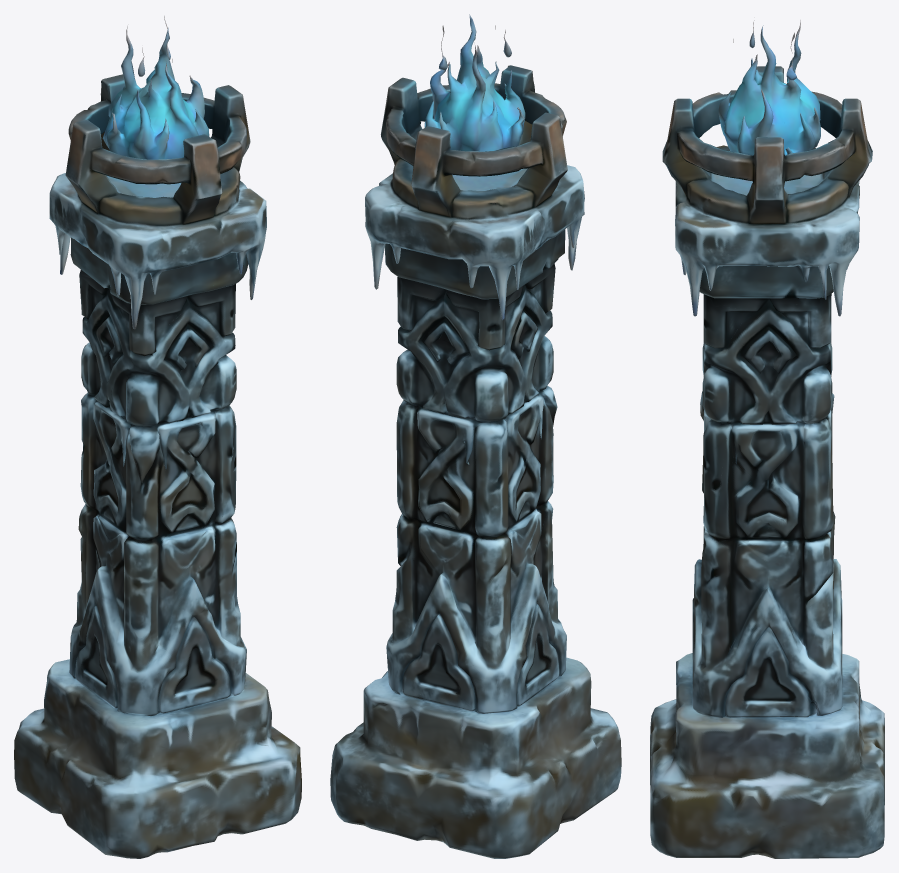
Rendered from brazier_pillar.glb.
3 renders of one model, left to right at view 1: azimuth 30°, elevation 25°; view 2: azimuth 150°, elevation 25°; view 3: azimuth 270°, elevation 25°, orthographic. The views are drawn at different scales.
Visible parts, largest first — view 1: geometry_0; view 2: geometry_0; view 3: geometry_0.
Boxes of the visible parts, x1,y1,x2,y2 form: geometry_0: (14,16,301,858); geometry_0: (330,14,621,858); geometry_0: (650,20,884,858).
Bounding box in the file's own units: 0.2549 × 0.9521 × 0.2563.
Materials: 1 (1 with a texture image).
